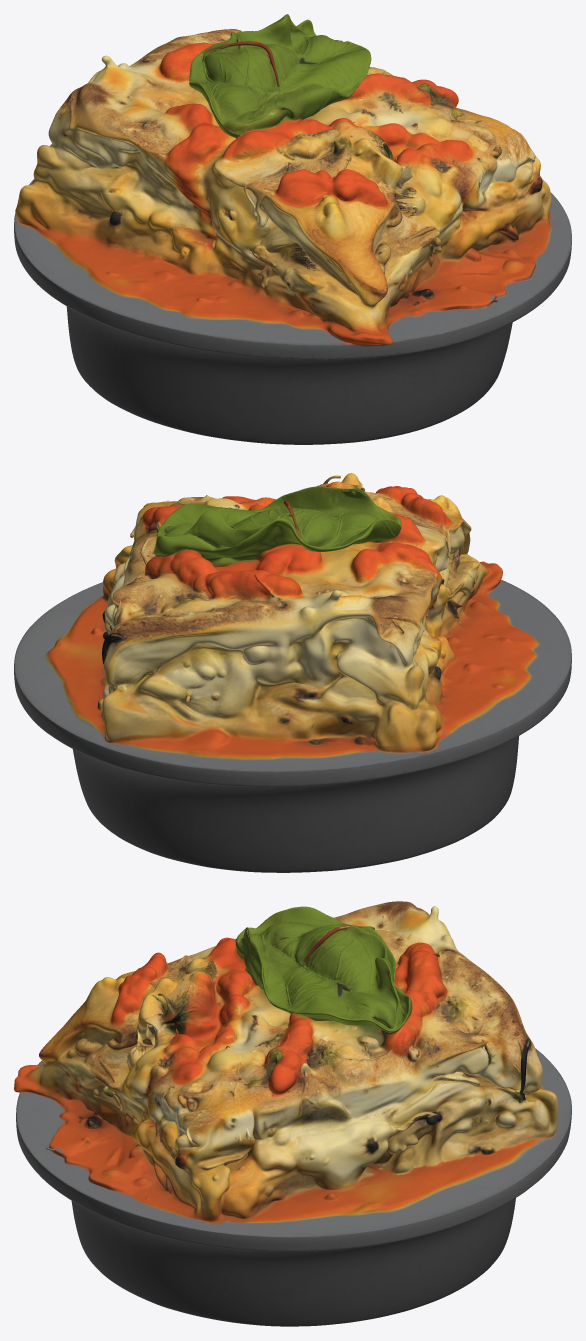
The model's file is Fried-Calamari.glb.
3 renders of one model, top to bottom at view 1: azimuth 30°, elevation 25°; view 2: azimuth 150°, elevation 25°; view 3: azimuth 270°, elevation 25°, orthographic.
Parts seen in each view (by area): view 1: tripo_node_98b66f5a-727f-4225-a8dd-27611724e666; view 2: tripo_node_98b66f5a-727f-4225-a8dd-27611724e666; view 3: tripo_node_98b66f5a-727f-4225-a8dd-27611724e666.
Boxes of the visible parts, left/top/right/bottom form: tripo_node_98b66f5a-727f-4225-a8dd-27611724e666: left=14, top=14, right=571, bottom=444; tripo_node_98b66f5a-727f-4225-a8dd-27611724e666: left=14, top=473, right=571, bottom=872; tripo_node_98b66f5a-727f-4225-a8dd-27611724e666: left=14, top=901, right=571, bottom=1326.
Size of the model in its own units: 0.0293 by 0.0177 by 0.0294.
1 material, 1 textured.
